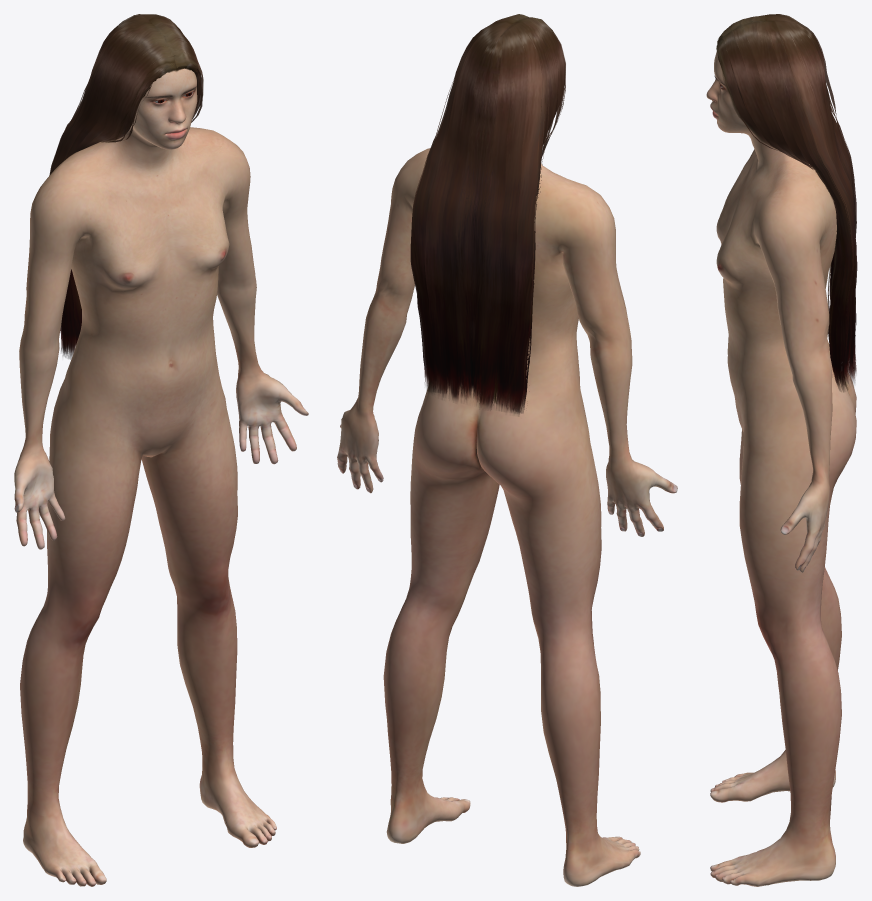
File: cuerpo_final.glb
3 renders of one model, left to right at view 1: azimuth 30°, elevation 25°; view 2: azimuth 150°, elevation 25°; view 3: azimuth 270°, elevation 25°, orthographic.
Parts seen in each view (by area): view 1: Human, Human.long01; view 2: Human, Human.long01; view 3: Human, Human.long01.
Part boxes in pixels (<box>): Human: <box>14,68,308,886</box>; Human.long01: <box>49,14,203,359</box>; Human: <box>337,148,677,886</box>; Human.long01: <box>410,14,565,415</box>; Human: <box>706,52,856,886</box>; Human.long01: <box>716,14,857,391</box>.
Size of the model in its own units: 0.6642 by 1.67 by 0.2795.
Materials: 4 (4 with a texture image).
